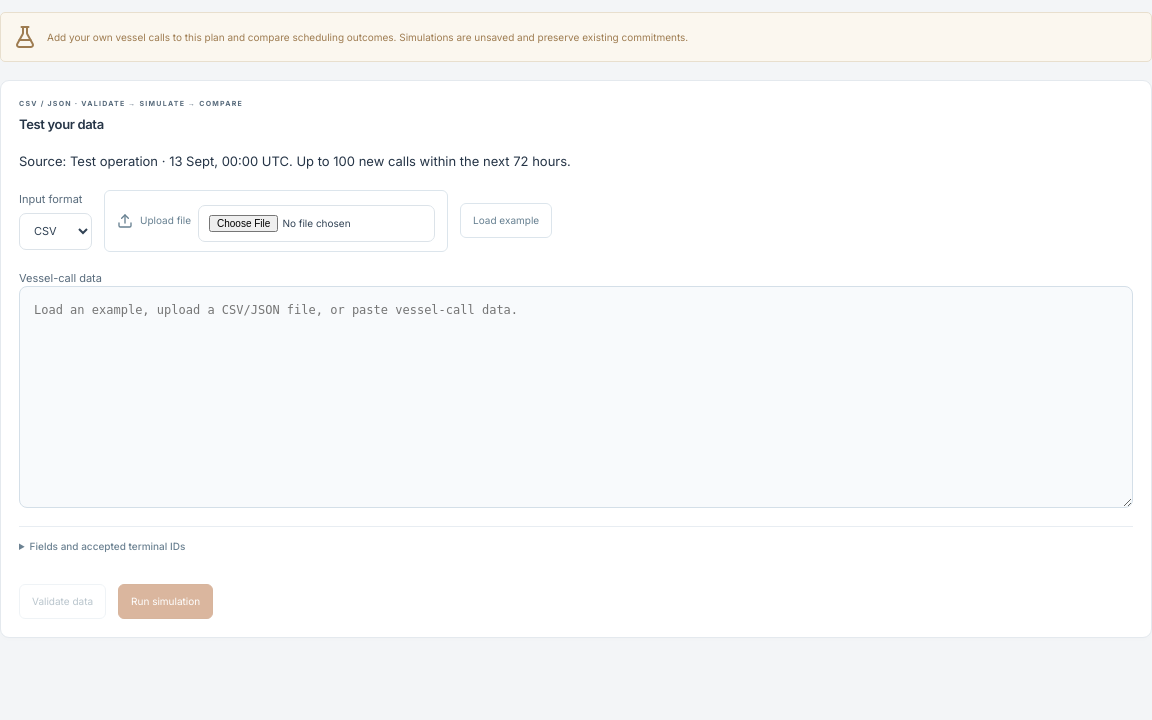
Test case: shows row errors and blocks the solver for invalid input
Step 1. Click the button "Load example" → (506, 220), box [460,203,552,238]
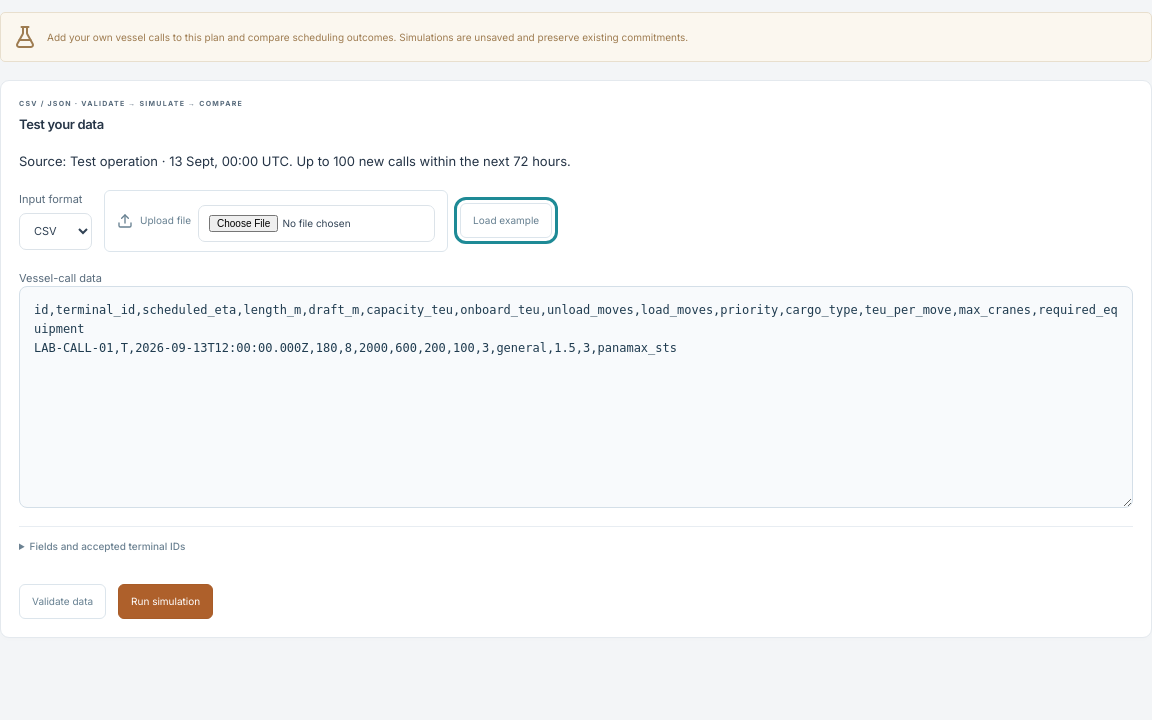
Step 2. Click the button "Run simulation" → (166, 602), box [118,584,213,619]
(page scrolled)
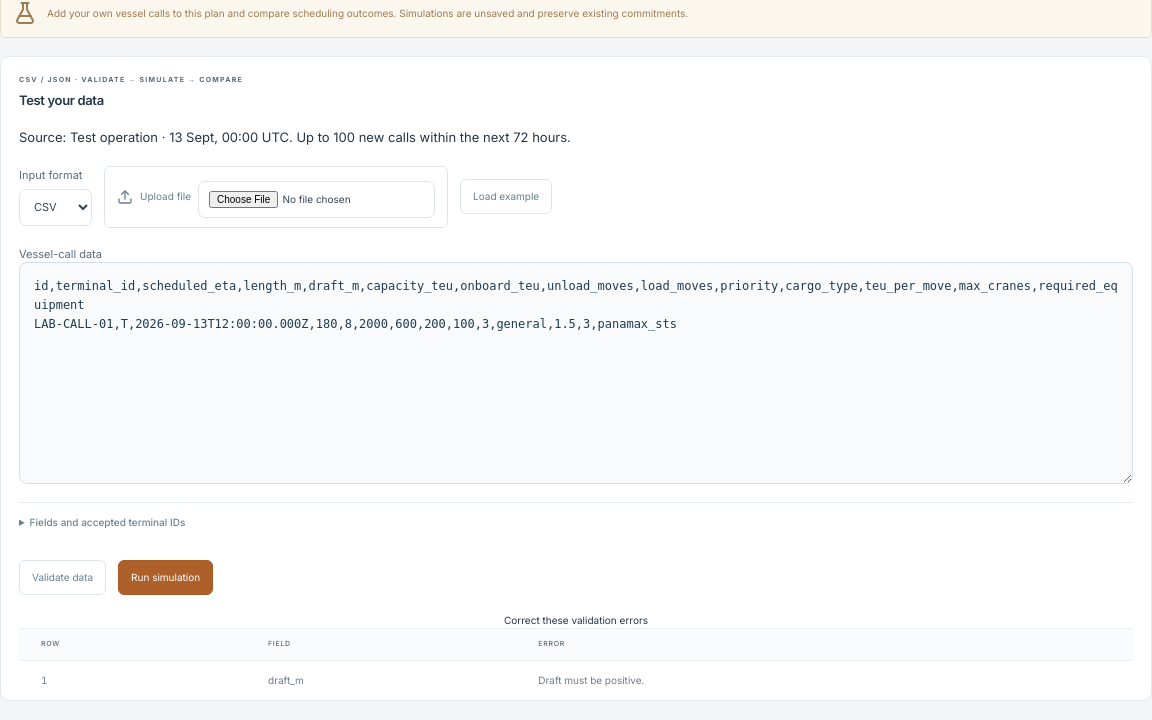
Expected: the text "Draft must be positive." is shown, [525,660,1133,700]
